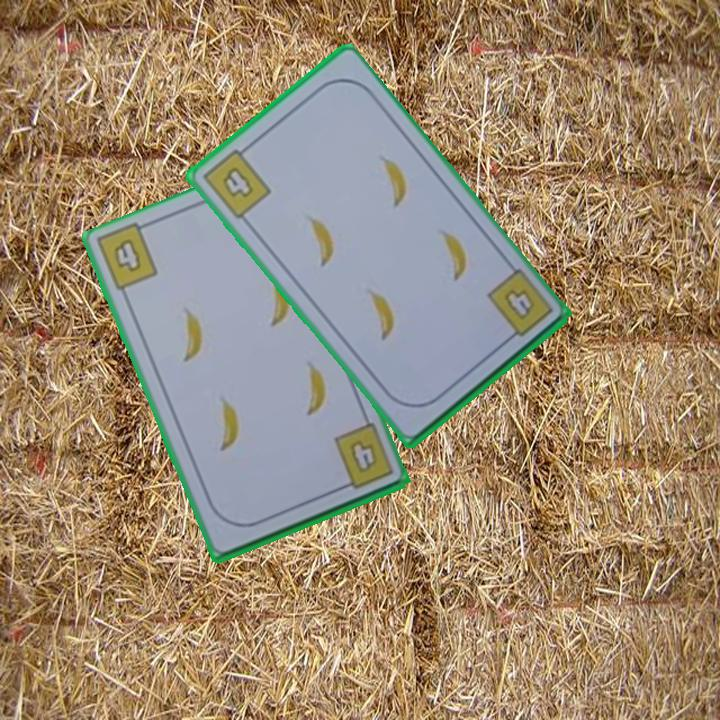4b: (199, 141, 274, 222), (482, 265, 556, 346), (330, 420, 396, 494), (109, 234, 144, 275)
